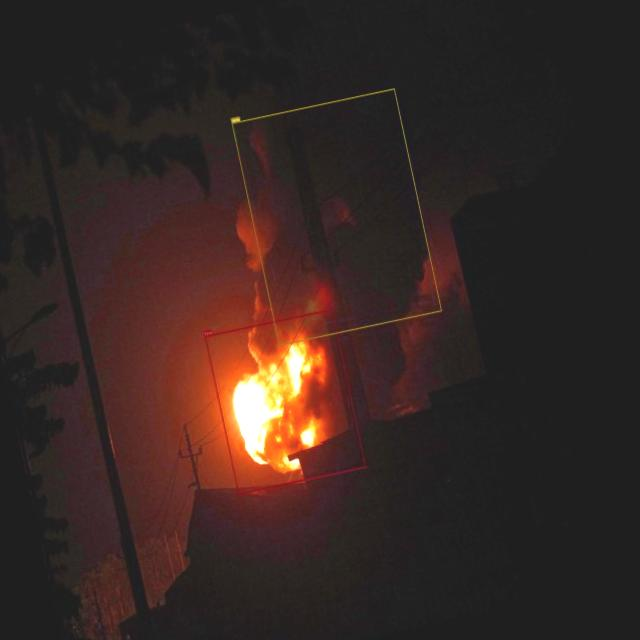fire: (204, 308, 366, 494)
smoke: (231, 87, 442, 346)
